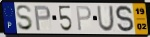5: (57, 5, 72, 32)
P: (33, 5, 52, 32), (75, 6, 93, 32)
S: (114, 5, 135, 34), (15, 4, 34, 32)
U: (96, 5, 115, 33)
